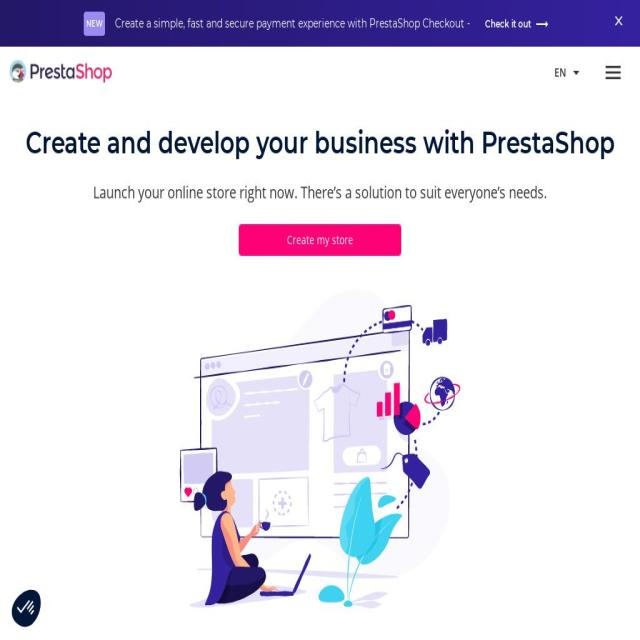button: (9, 59, 112, 85), (250, 232, 390, 248), (543, 56, 593, 88), (11, 588, 41, 632), (485, 16, 546, 32)
heading: (9, 124, 630, 161)
image: (180, 289, 460, 609), (9, 59, 112, 83), (11, 588, 41, 628)
link: (534, 14, 550, 34)
text: (9, 181, 630, 204), (115, 14, 470, 33), (603, 40, 624, 104), (485, 17, 531, 31), (84, 11, 105, 36), (568, 62, 584, 82), (554, 63, 566, 81), (613, 13, 625, 29)
